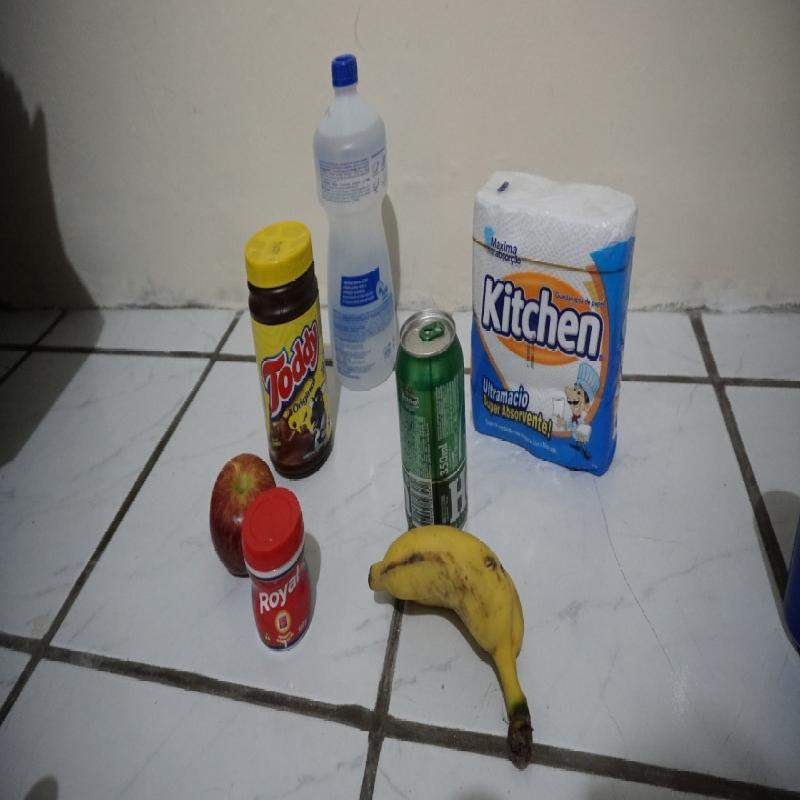Alcohol Bottle: (314, 53, 398, 388)
Apple: (209, 452, 275, 580)
Banana: (368, 526, 535, 767)
Beer can: (397, 310, 468, 528)
Chocolate Powder: (246, 221, 334, 480)
Napkin: (471, 168, 637, 478)
Yeast: (245, 489, 313, 651)
